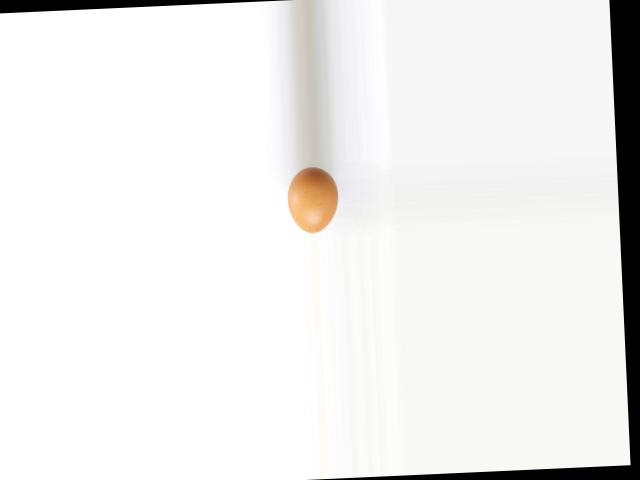egg: (287, 166, 340, 233)
